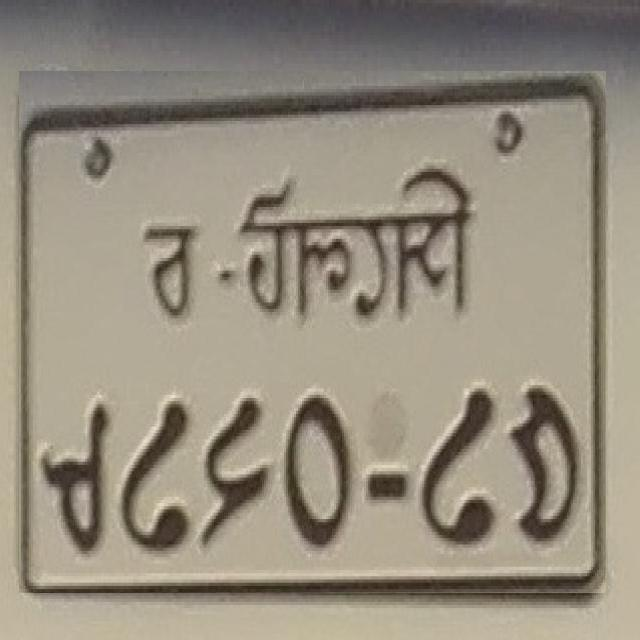cng: (148, 164, 482, 323)
numberplate: (19, 71, 606, 593)
